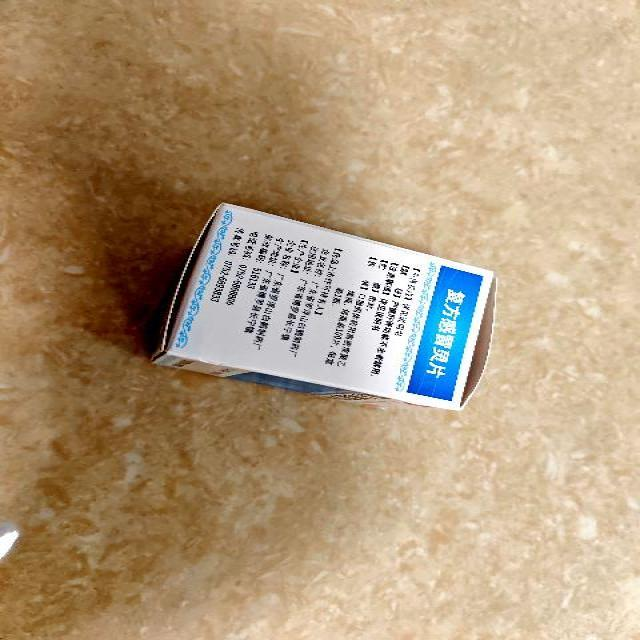box: (155, 199, 498, 411)
